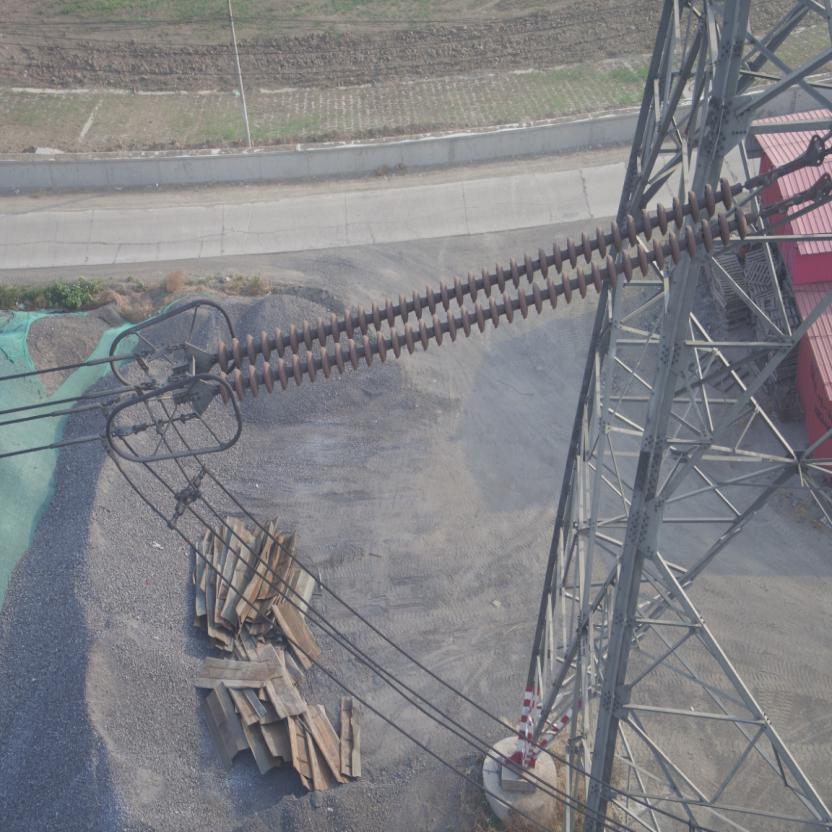insulator: (206, 172, 786, 408)
